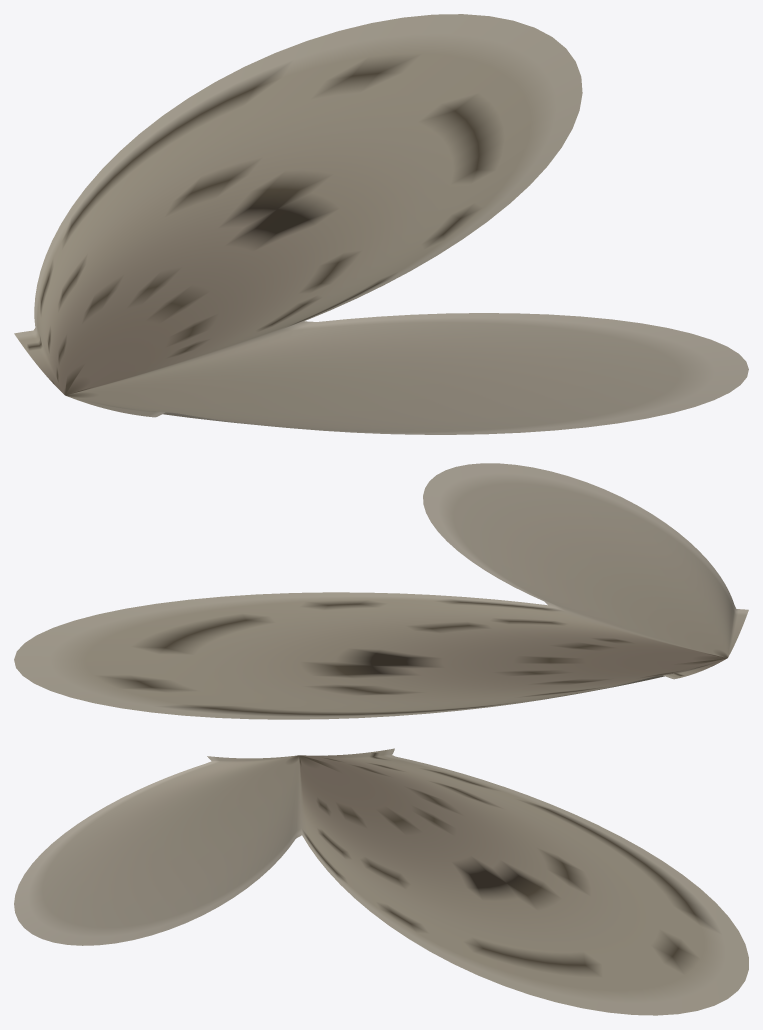
The model's file is Fuyushaku_Wing.fbx.
3 renders of one model, top to bottom at view 1: azimuth 30°, elevation 25°; view 2: azimuth 150°, elevation 25°; view 3: azimuth 270°, elevation 25°, orthographic. The views are drawn at different scales.
Parts seen in each view (by area): view 1: Fuyushaku_Wing; view 2: Fuyushaku_Wing; view 3: Fuyushaku_Wing.
Boxes of the visible parts, x1,y1,x2,y2 form: Fuyushaku_Wing: (14, 14, 748, 434); Fuyushaku_Wing: (14, 463, 748, 719); Fuyushaku_Wing: (14, 748, 748, 1015).
Bounding box in the file's own units: 0.5332 × 0.01 × 0.6107.
